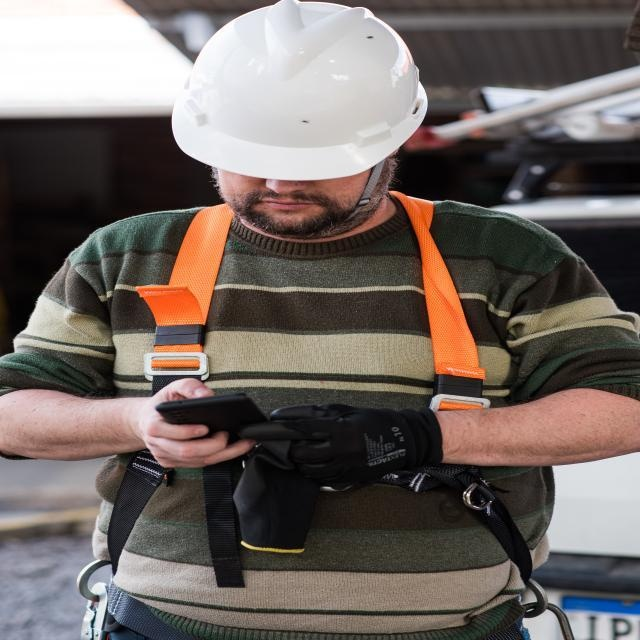Arnes_seguridad: (70, 187, 589, 640)
